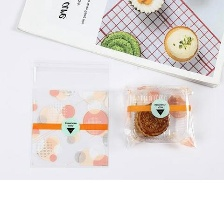snack: (24, 55, 116, 174), (116, 79, 203, 153)
